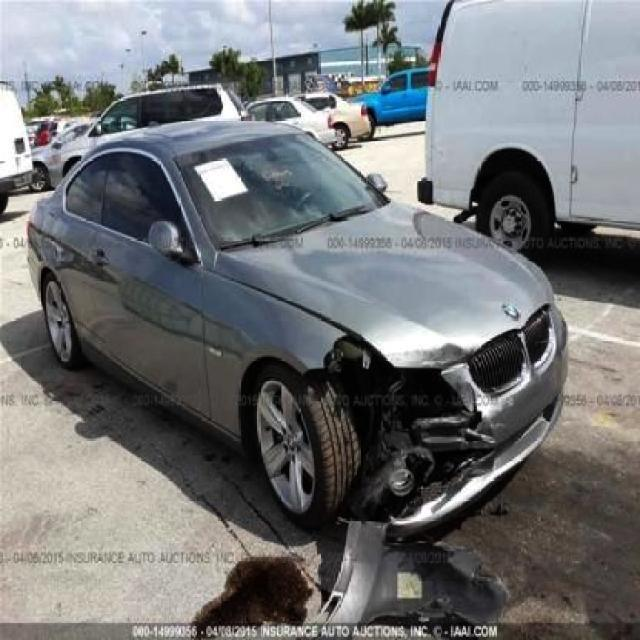minor: (329, 322, 503, 523)
